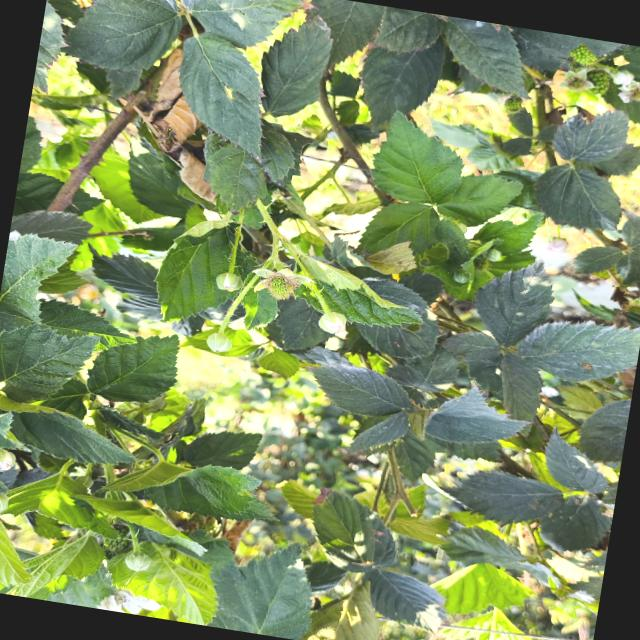boton: (318, 312, 346, 333), (216, 272, 243, 292), (125, 553, 152, 572), (207, 332, 232, 352), (0, 449, 16, 471), (486, 249, 502, 262), (453, 271, 469, 284), (0, 494, 9, 514)
verde: (262, 275, 298, 300)
